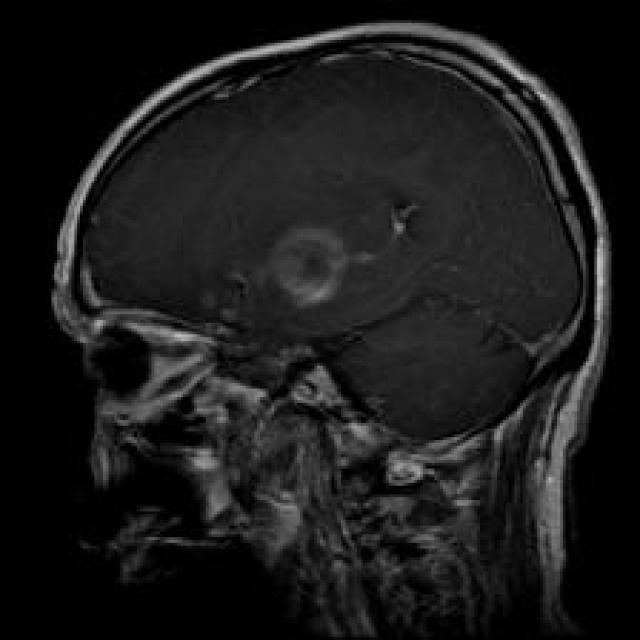glioma_tumor: (217, 188, 429, 334)
